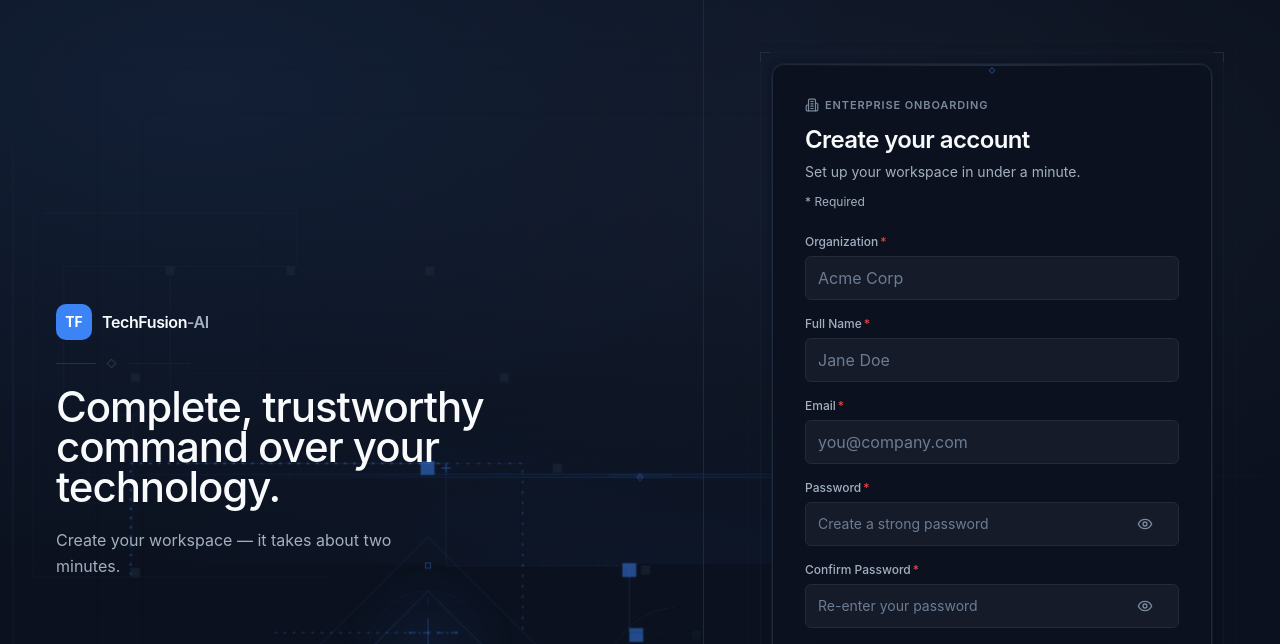
Test: SignupExperience › shows live password strength feedback and requirements
Type "pass" into the password field labelled "Password*" at (992,524), box [805,502,1179,546]
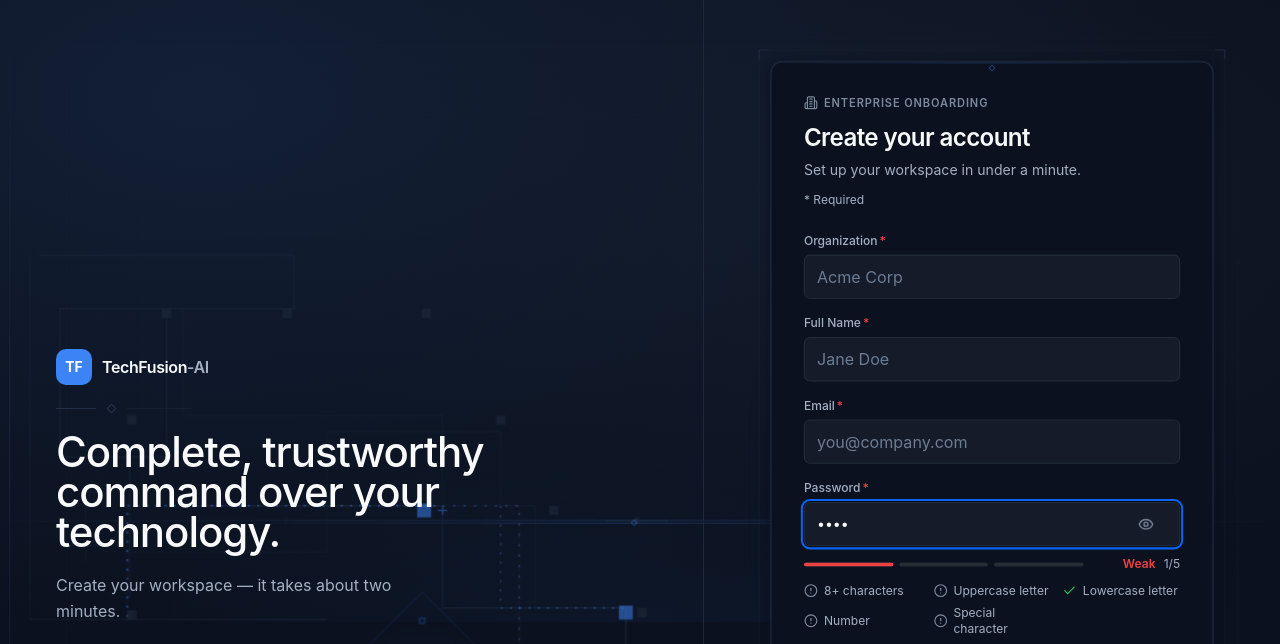
Expected: the message shows "Weak", [1123,556,1156,571]
Clear the password field labelled "Password*" at (992,524), box [804,502,1180,546]
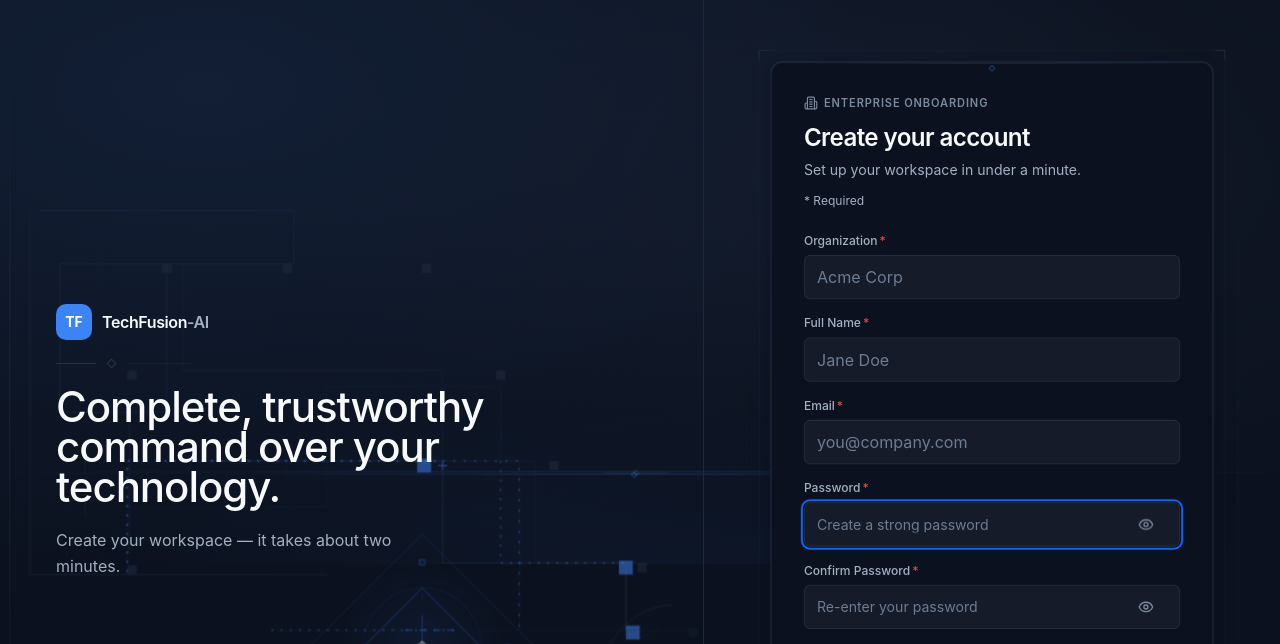
Type "Passw0rd!" into the password field labelled "Password*" at (992,524), box [804,502,1180,546]
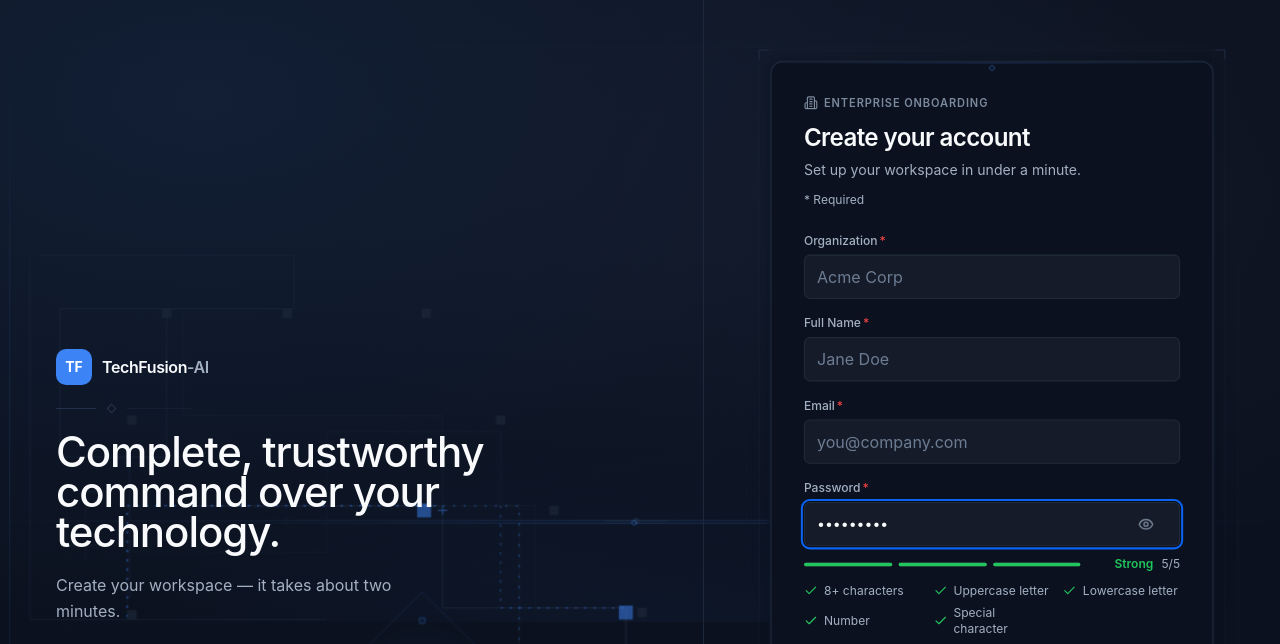
Expected: the message shows "Strong", [1114,556,1153,571]
Expected: the text "8+ characters" is shown, [824,582,904,598]
Expected: the text "Uppercase letter" is shown, [953,582,1048,598]
